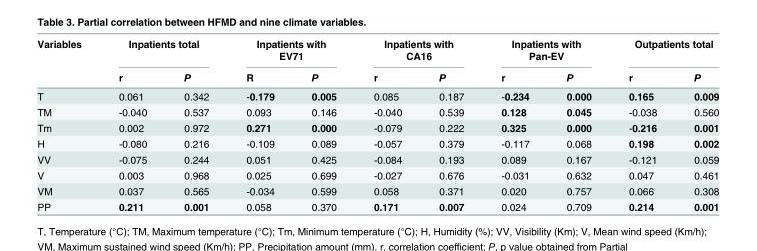table: (36, 37, 718, 212)
table column: (226, 37, 292, 212), (481, 37, 547, 212), (99, 37, 164, 212), (354, 37, 419, 212), (609, 37, 674, 212), (36, 37, 99, 212), (164, 37, 226, 212), (292, 37, 354, 212), (419, 37, 481, 212), (547, 37, 609, 212), (674, 37, 718, 212)
table column header: (36, 37, 718, 86)
table row: (36, 37, 718, 65), (36, 65, 718, 86), (36, 86, 718, 103), (36, 103, 718, 119), (36, 119, 718, 135), (36, 135, 718, 151), (36, 166, 718, 182), (36, 182, 718, 198), (36, 151, 718, 166), (36, 198, 718, 212)
table spanning cell: (226, 37, 354, 65), (481, 37, 609, 65), (99, 37, 226, 65), (354, 37, 481, 65), (36, 37, 99, 86), (609, 37, 718, 65)
